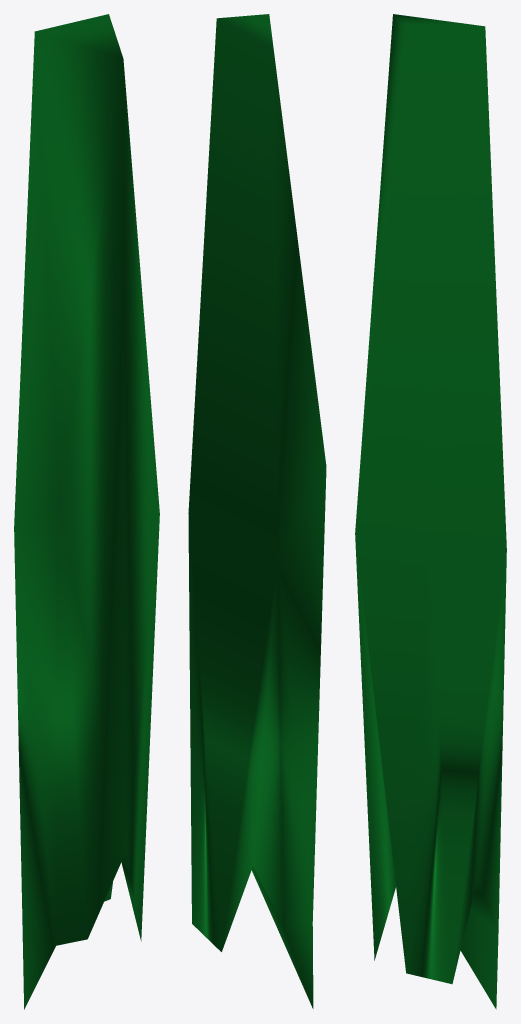
The model's file is SeguaroCactusMedium1_LOD2.obj.
The picture shows the model from 3 angles, left to right: view 1: azimuth 90°, elevation 25°; view 2: azimuth 210°, elevation 25°; view 3: azimuth 270°, elevation 25°; orthographic projection. The views are drawn at different scales.
Visible parts, largest first — view 1: SeguaroCactusMedium1_LOD2; view 2: SeguaroCactusMedium1_LOD2; view 3: SeguaroCactusMedium1_LOD2.
Boxes of the visible parts, x1,y1,x2,y2 form: SeguaroCactusMedium1_LOD2: [14, 14, 159, 1009]; SeguaroCactusMedium1_LOD2: [188, 14, 326, 1008]; SeguaroCactusMedium1_LOD2: [355, 14, 506, 1009].
Size of the model in its own units: 30.75 by 232 by 31.66.
